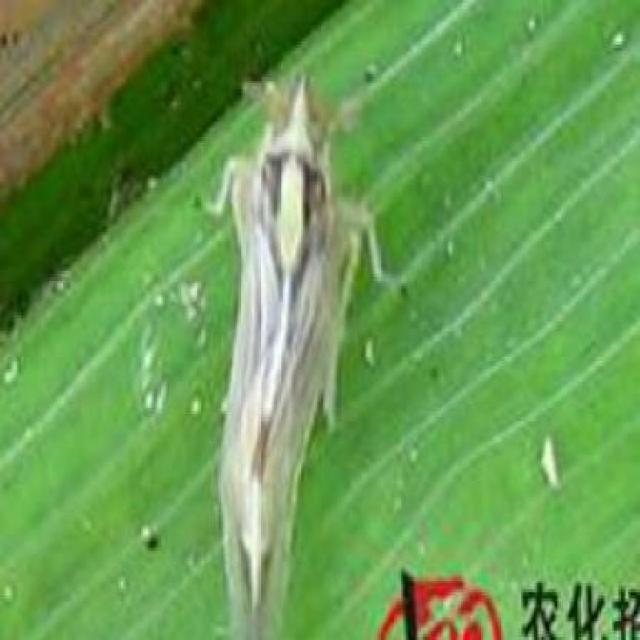brown-planthopper: (196, 74, 369, 640)
